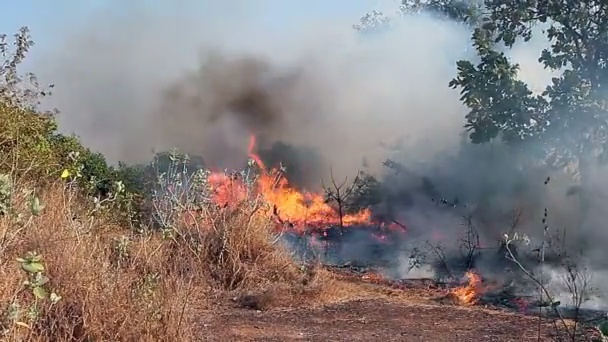fire: (266, 192, 328, 223), (457, 272, 476, 303), (345, 208, 370, 222), (255, 174, 273, 189), (62, 170, 68, 176)
